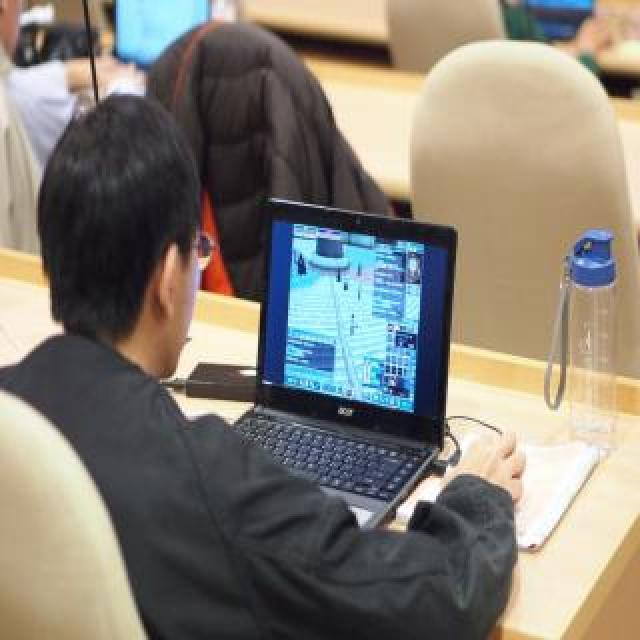laptop_computer: (244, 195, 465, 533), (102, 0, 229, 80)
